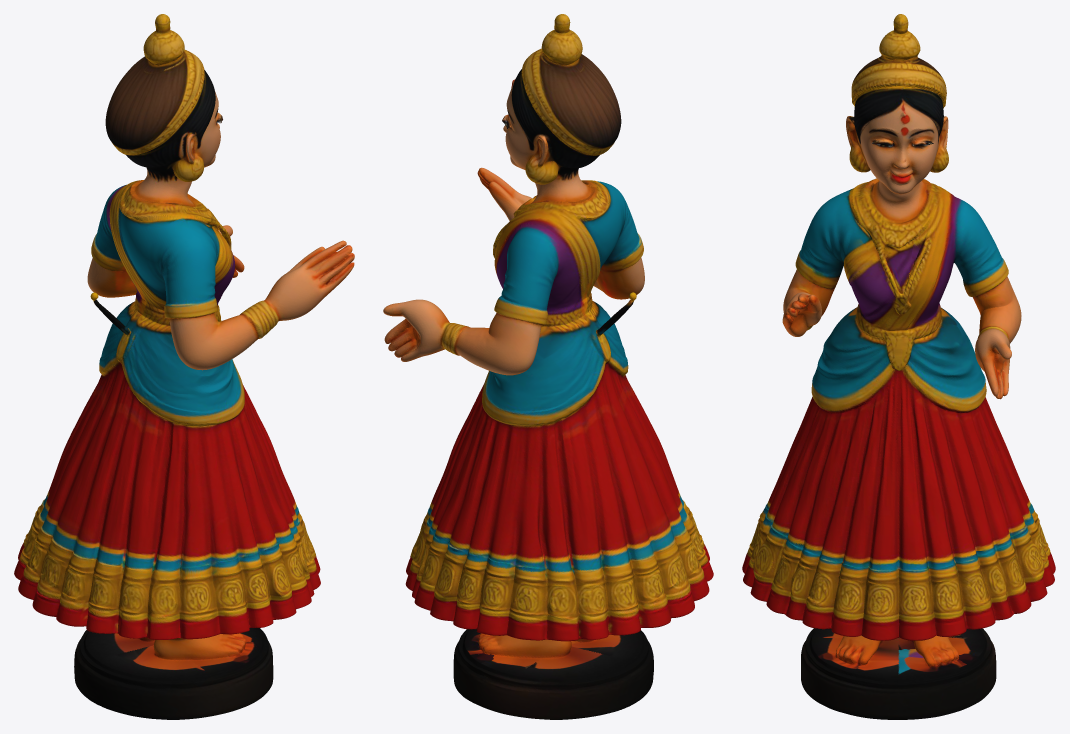
Rendered from thanjavurDoll.glb.
3 renders of one model, left to right at view 1: azimuth 30°, elevation 25°; view 2: azimuth 150°, elevation 25°; view 3: azimuth 270°, elevation 25°, orthographic.
Parts seen in each view (by area): view 1: tripo_node_dc0de0c0-87a8-49e7-910d-8b254016e7f1; view 2: tripo_node_dc0de0c0-87a8-49e7-910d-8b254016e7f1; view 3: tripo_node_dc0de0c0-87a8-49e7-910d-8b254016e7f1.
Boxes of the visible parts, bbox=[...] form: tripo_node_dc0de0c0-87a8-49e7-910d-8b254016e7f1: bbox=[14, 14, 354, 719]; tripo_node_dc0de0c0-87a8-49e7-910d-8b254016e7f1: bbox=[383, 14, 713, 719]; tripo_node_dc0de0c0-87a8-49e7-910d-8b254016e7f1: bbox=[742, 14, 1055, 719].
Bounding box in the file's own units: 0.4161 × 1 × 0.4305.
1 material, 1 textured.
